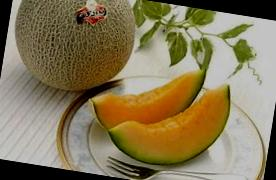Melon Ripe: (109, 70, 233, 172), (88, 54, 207, 136)
